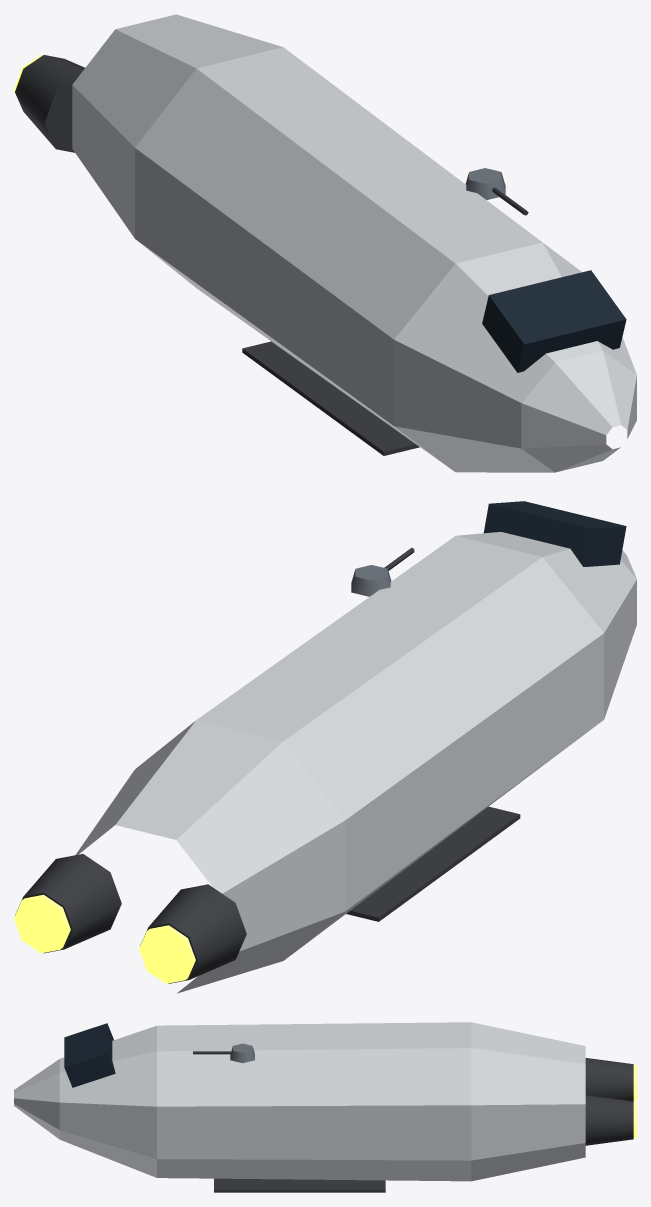
The model's file is space_ship_transport_mk2.glb.
The picture shows the model from 3 angles, top to bottom: view 1: azimuth 30°, elevation 25°; view 2: azimuth 150°, elevation 25°; view 3: azimuth 270°, elevation 25°; orthographic projection. The views are drawn at different scales.
Visible parts, largest first — view 1: body, hangar_door, engine_1, turret_0; view 2: body, engine_1, engine_0, hangar_door, turret_0; view 3: body, hangar_door, engine_0, engine_1, turret_0.
Part boxes in pixels (left/top/right/bottom): body: left=72, top=14, right=636, bottom=472; hangar_door: left=242, top=341, right=419, bottom=455; engine_1: left=14, top=55, right=84, bottom=152; turret_0: left=465, top=168, right=528, bottom=215; body: left=75, top=501, right=636, bottom=993; engine_1: left=139, top=884, right=246, bottom=983; engine_0: left=14, top=854, right=121, bottom=953; hangar_door: left=346, top=806, right=520, bottom=921; turret_0: left=351, top=547, right=414, bottom=596; body: left=14, top=1022, right=585, bottom=1181; hangar_door: left=214, top=1178, right=385, bottom=1192; engine_0: left=585, top=1095, right=636, bottom=1145; engine_1: left=585, top=1058, right=636, bottom=1101; turret_0: left=193, top=1043, right=254, bottom=1063.
Size of what is drawn, in the model's own units: 5.19 by 5.49 by 21.96.
